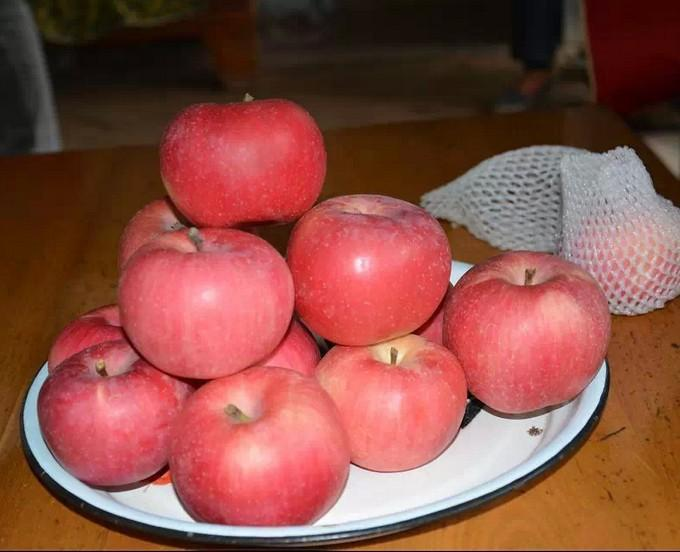apple: (168, 368, 354, 530), (439, 253, 613, 414), (120, 227, 293, 379), (286, 193, 451, 348), (36, 338, 190, 492), (160, 94, 328, 232), (313, 334, 467, 473), (49, 302, 140, 376)
